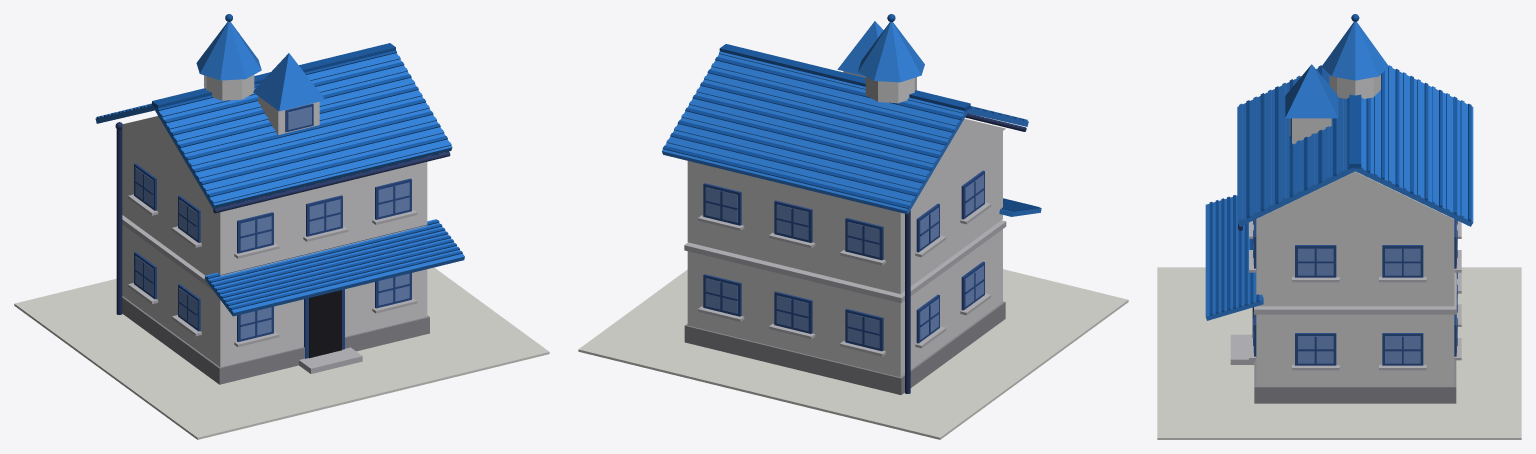
File: hostel.glb
The picture shows the model from 3 angles, left to right: view 1: azimuth 30°, elevation 25°; view 2: azimuth 150°, elevation 25°; view 3: azimuth 270°, elevation 25°; orthographic projection. The views are drawn at different scales.
Parts seen in each view (by area): view 1: Pad, Floor2Walls, RoofSlab, Floor1Walls, AwningSlab, Plinth, TurretCap, DormerRoof, Door, Gable, RidgeCap, Gutter (+34 smaller); view 2: Pad, Floor2Walls, Floor1Walls, RoofSlab.001, Plinth, Band, TurretCap, RidgeCap, Gable, RoofRib.023, RoofRib.024, RoofRib.029 (+22 smaller); view 3: Pad, Floor2Walls, Floor1Walls, RoofSlab.001, RoofSlab, Gable.001, Plinth, AwningSlab, TurretCap, DormerRoof, Band, RidgeCap (+36 smaller).
Boxes of the visible parts, x1,y1,x2,y2 form: Pad: (14, 267, 549, 439); Floor2Walls: (122, 115, 427, 276); RoofSlab: (155, 53, 452, 208); Floor1Walls: (122, 224, 427, 367); AwningSlab: (204, 219, 464, 316); Plinth: (122, 296, 429, 384); TurretCap: (196, 21, 261, 80); DormerRoof: (253, 53, 325, 111); Door: (309, 290, 341, 358); Gable: (122, 116, 198, 184); RidgeCap: (152, 43, 395, 108); Gutter: (213, 151, 450, 213); Pad: (578, 269, 1128, 439); Floor2Walls: (687, 118, 1002, 293); Floor1Walls: (687, 229, 1002, 377); RoofSlab.001: (662, 54, 967, 214); Plinth: (684, 301, 1005, 394); Band: (684, 220, 1006, 303); TurretCap: (858, 22, 924, 82); RidgeCap: (719, 44, 970, 111); Gable: (923, 119, 1005, 188); RoofRib.023: (692, 95, 939, 158); RoofRib.024: (689, 101, 935, 164); RoofRib.029: (670, 133, 916, 196); Pad: (1157, 267, 1521, 439); Floor2Walls: (1256, 219, 1454, 306); Floor1Walls: (1256, 314, 1454, 386); RoofSlab.001: (1355, 67, 1473, 226); RoofSlab: (1237, 67, 1356, 226); Gable.001: (1256, 171, 1453, 219); Plinth: (1254, 357, 1456, 403); AwningSlab: (1205, 195, 1263, 320); TurretCap: (1322, 21, 1388, 80); DormerRoof: (1285, 64, 1338, 118); Band: (1254, 269, 1456, 314); RidgeCap: (1349, 94, 1361, 168).
Size of the model in its own units: 10.2 by 8.88 by 9.2.
